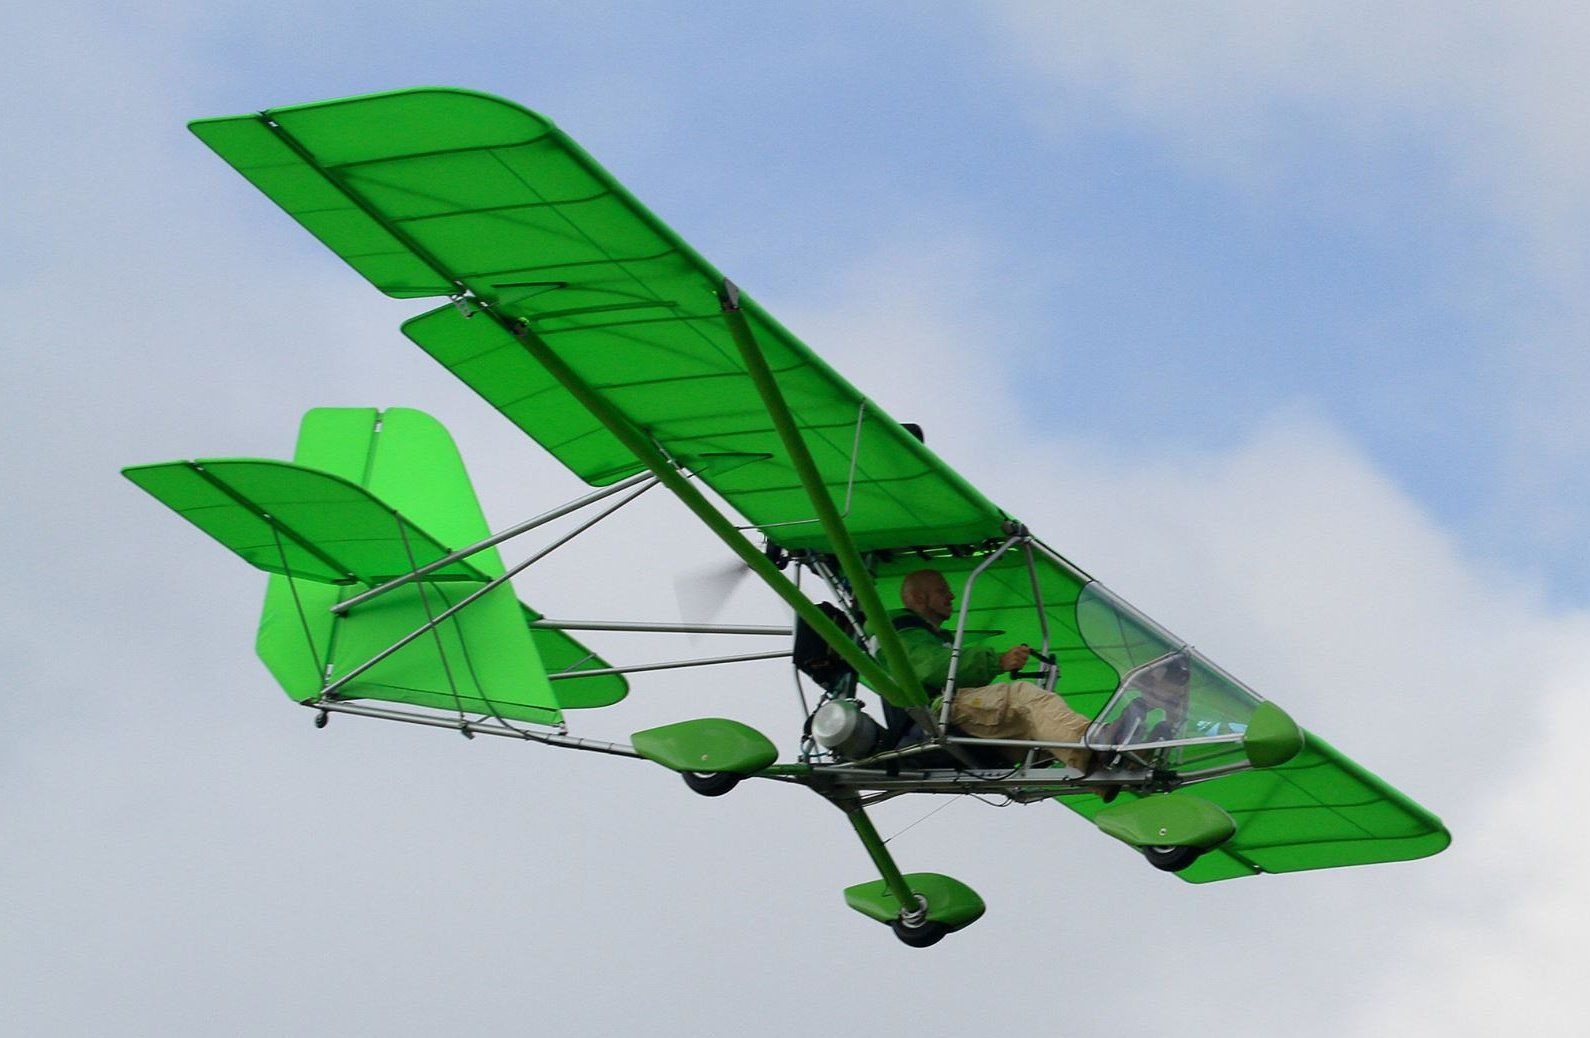Aeronef_de_loisir: (75, 78, 1519, 984)
